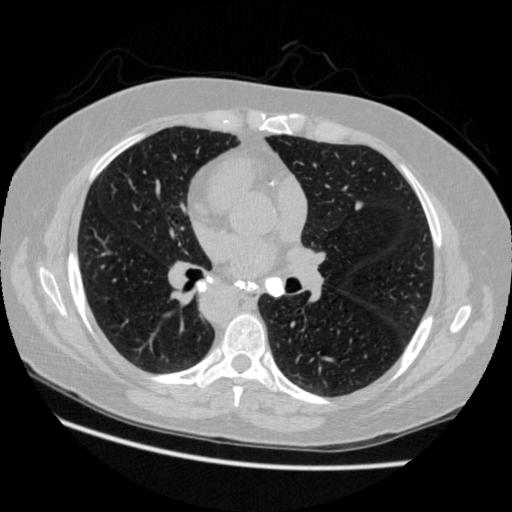nodule: (355, 200, 368, 213)
